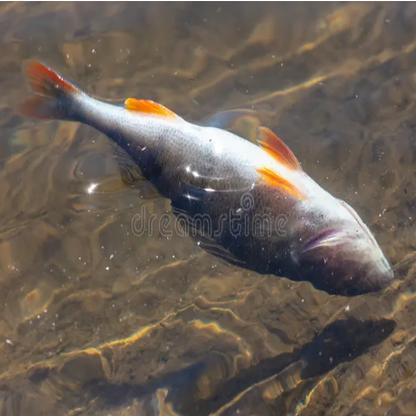deceased fish: (20, 54, 393, 294)
